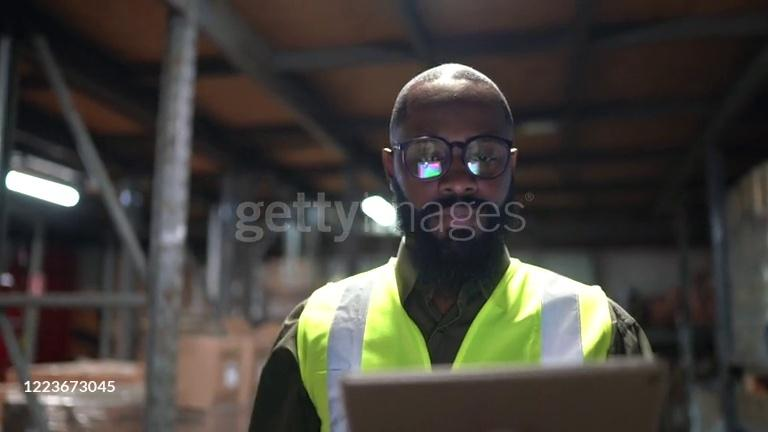person: (245, 55, 662, 432)
